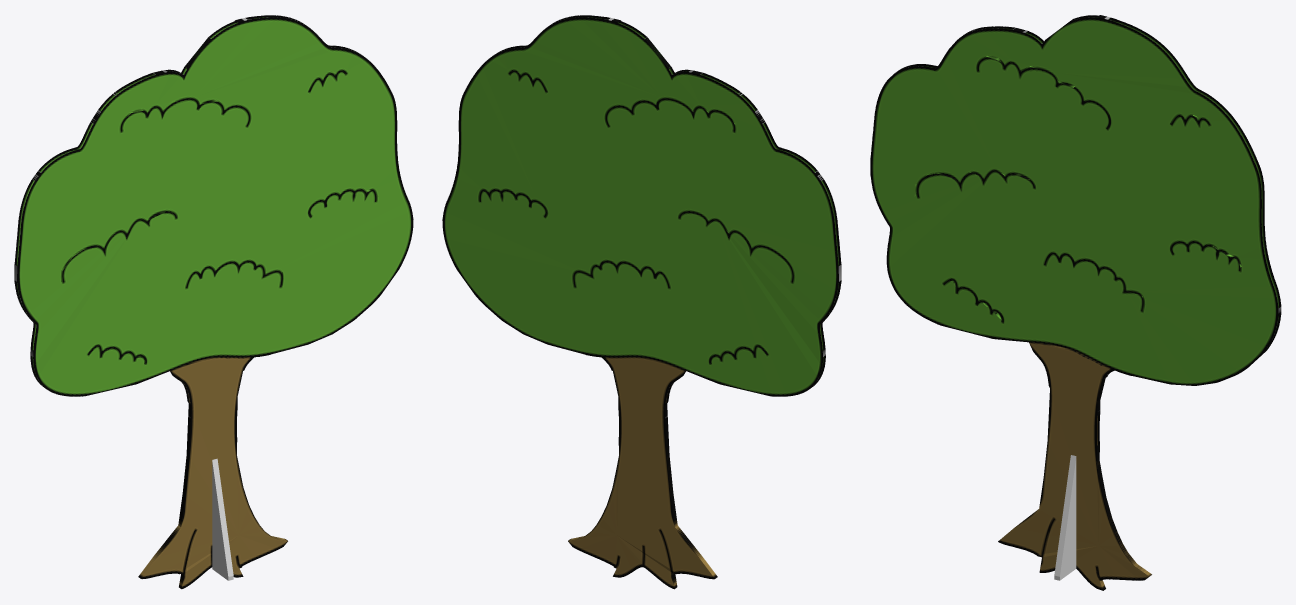
Rendered from Tree1.fbx.
3 renders of one model, left to right at view 1: azimuth 30°, elevation 25°; view 2: azimuth 150°, elevation 25°; view 3: azimuth 330°, elevation 25°, orthographic. The views are drawn at different scales.
Parts seen in each view (by area): view 1: ImageToStl.com_treeclipart.001, Cube; view 2: ImageToStl.com_treeclipart.001; view 3: ImageToStl.com_treeclipart.001, Cube.
Part boxes in pixels (<box>): ImageToStl.com_treeclipart.001: <box>14,15,413,589</box>; Cube: <box>212,458,233,580</box>; ImageToStl.com_treeclipart.001: <box>442,15,841,589</box>; ImageToStl.com_treeclipart.001: <box>870,15,1281,590</box>; Cube: <box>1054,455,1076,580</box>.
Size of the model in its own units: 389 by 520 by 33.32.
